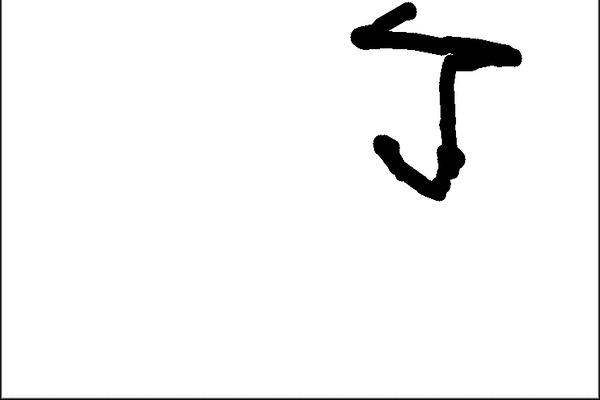J: (337, 0, 527, 206)
